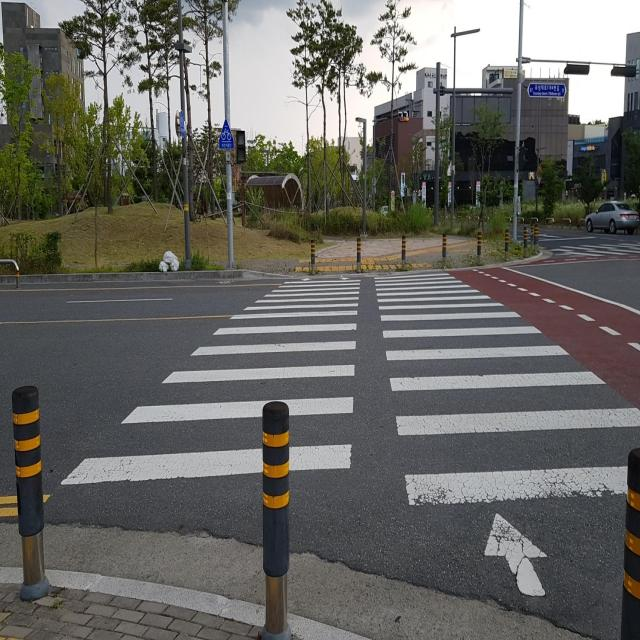횡단보도: (56, 264, 640, 605), (545, 242, 640, 261)
